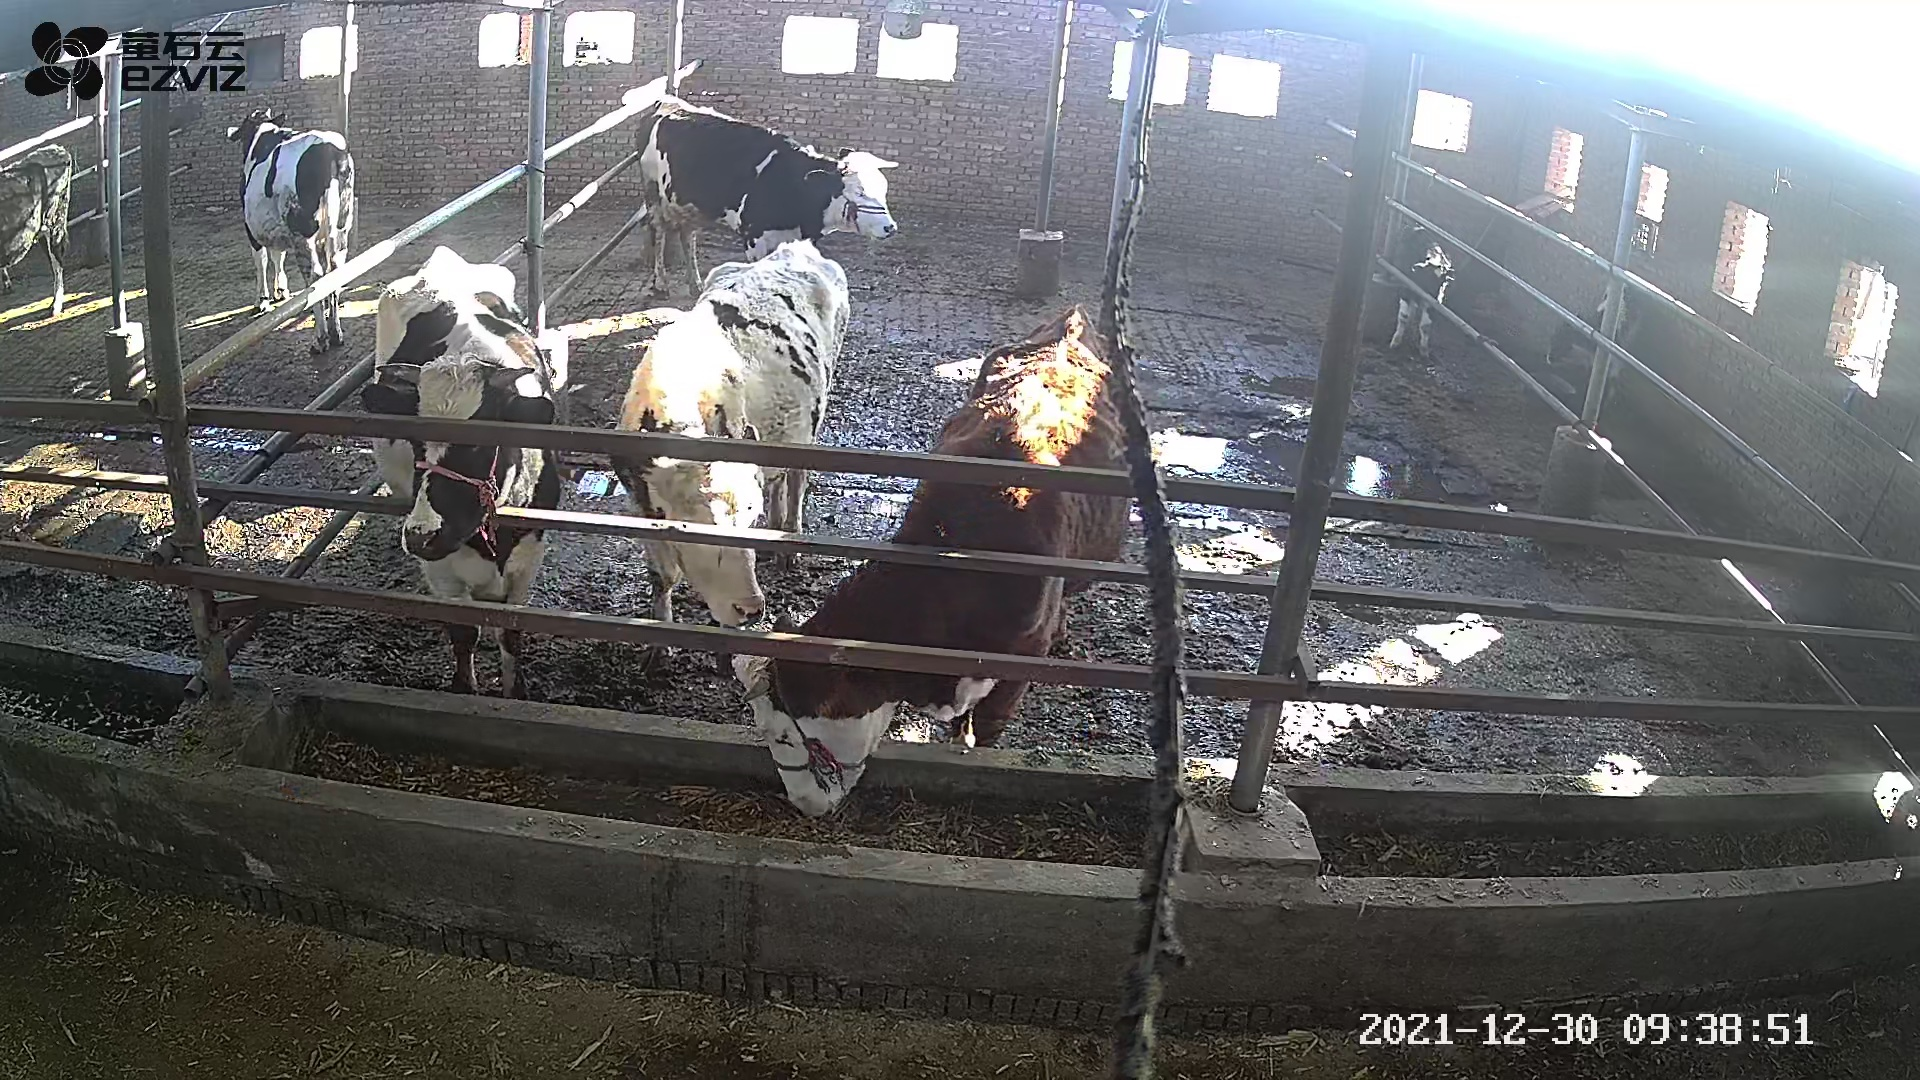cow: (735, 301, 1131, 822), (609, 235, 851, 683), (359, 243, 562, 700), (632, 92, 901, 301)
